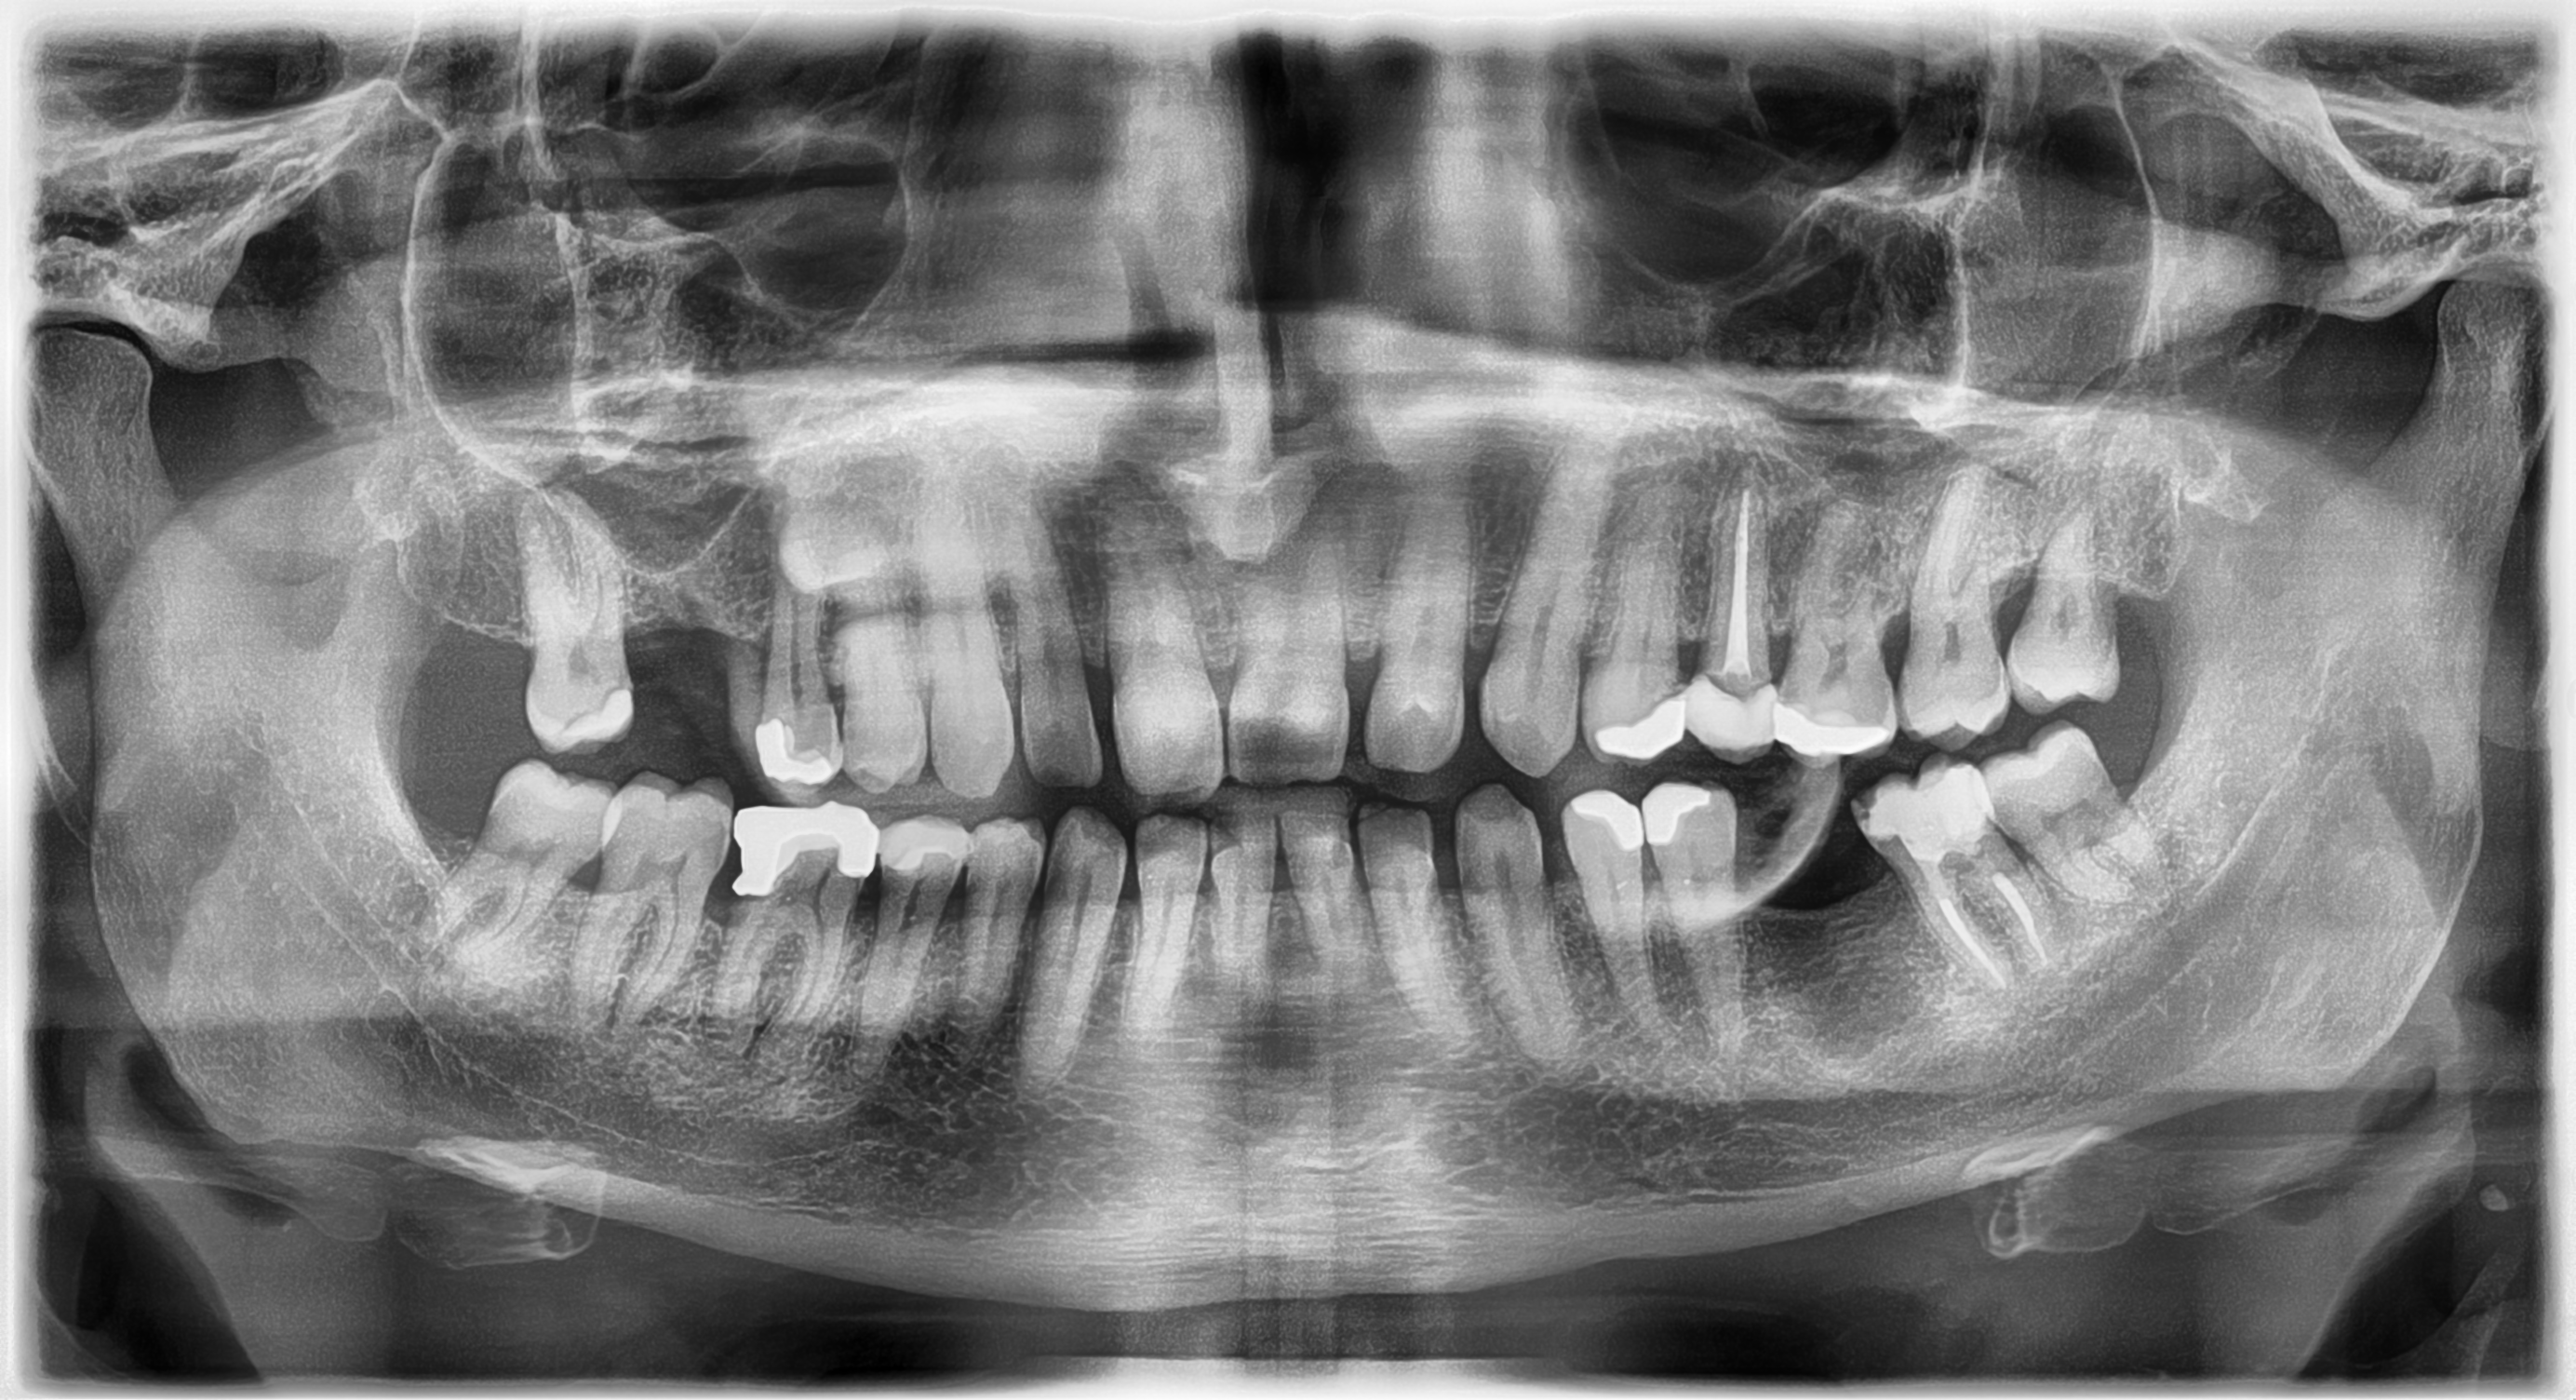cordal: (401, 733, 636, 990), (1959, 702, 2187, 928), (1988, 459, 2138, 726)
tratamiento_conducto: (1837, 743, 2087, 1010), (1677, 452, 1790, 757)
zona_dentula: (1721, 767, 1920, 1017)
